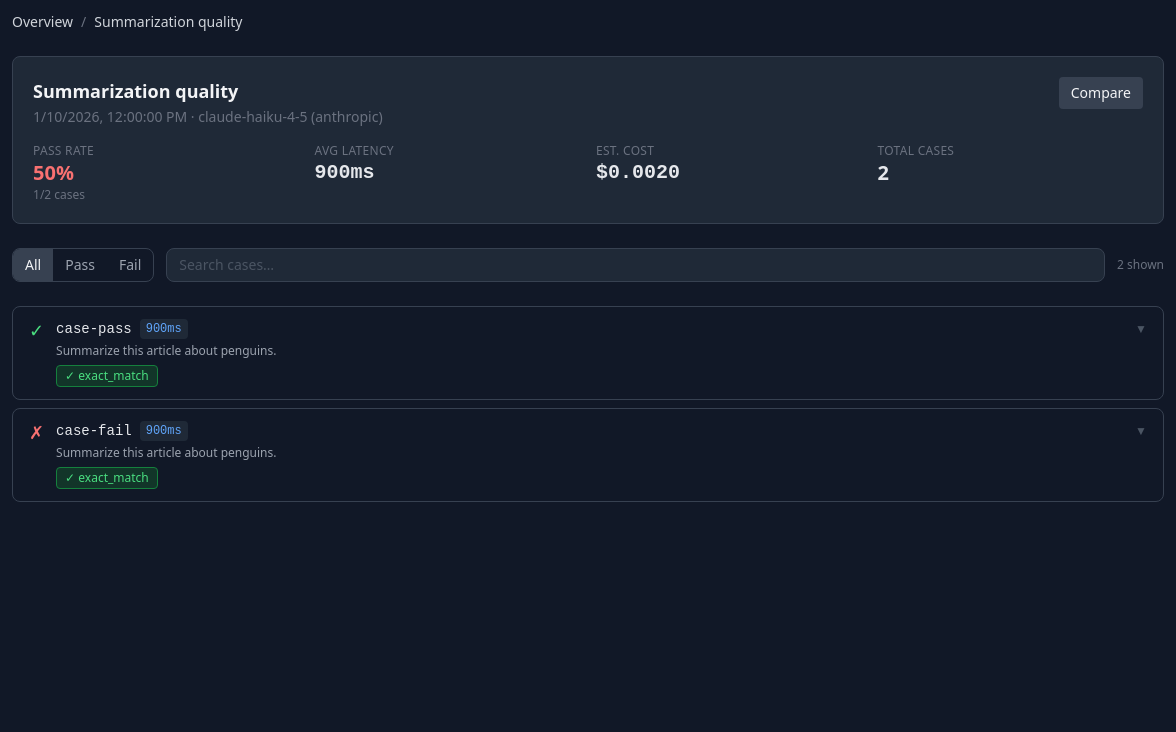
Test: RunDetail page › filters cases with the pass/fail toggle
The width and height of the screenshot is (1176, 732).
Expected: the text "case-pass" is shown, [56,319,132,339]
Click the button "fail" at (130, 265), box [107,249,153,281]
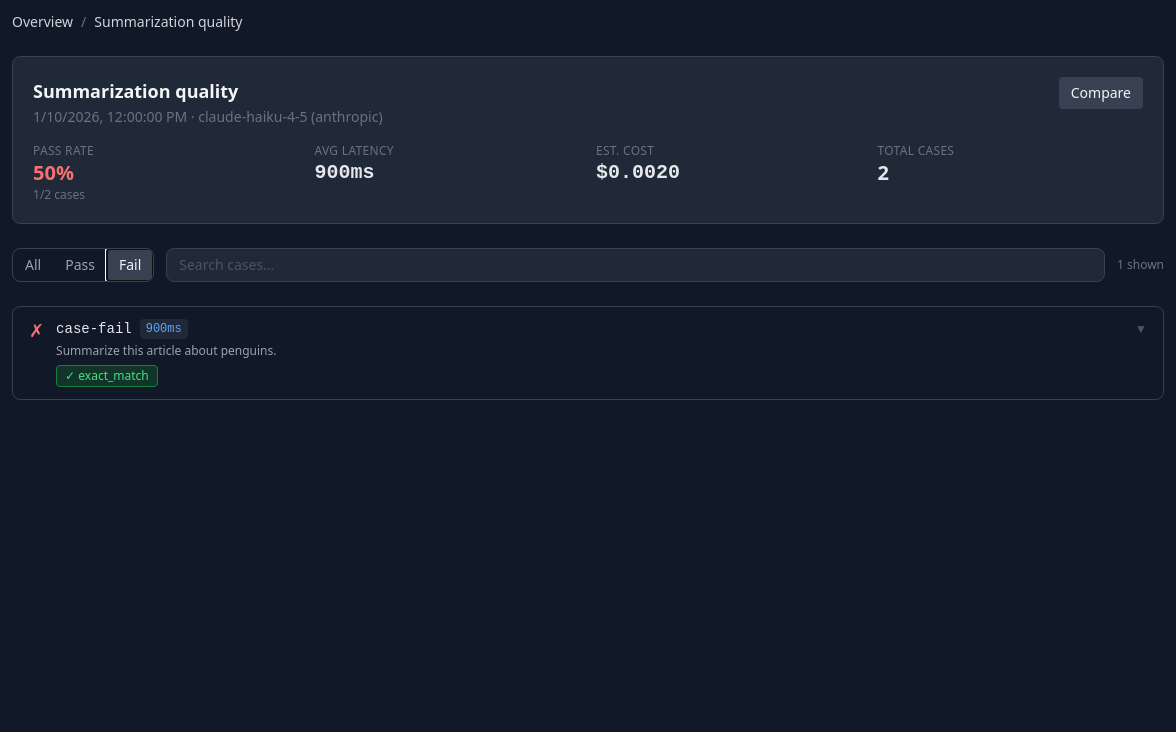
Expected: the text "case-fail" is shown, [56,319,132,339]
Expected: the button "case-pass" is gone
Expected: the text "1 shown" is shown, [1117,257,1164,273]
